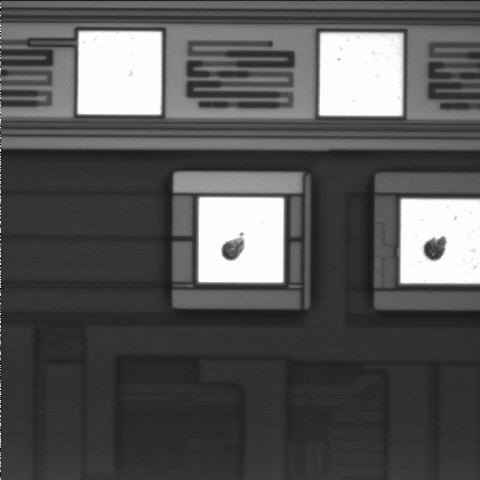pad: (199, 197, 284, 283), (78, 31, 162, 115), (319, 33, 403, 116)
